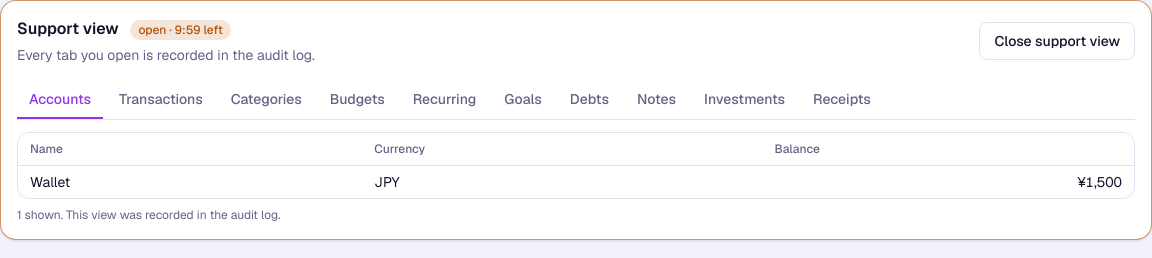
support view › while open, shows the time left and each tab's rows with amounts in the row's currency
Later steps or results of the test are not shown.
Expected: the text "open · 9:59 left" is shown, x1=130 y1=20 x2=231 y2=40
Expected: the text "Wallet" is shown, x1=18 y1=166 x2=362 y2=198
Click the tab "Notes". click: (656, 100)
box: x1=625 y1=81 x2=688 y2=119
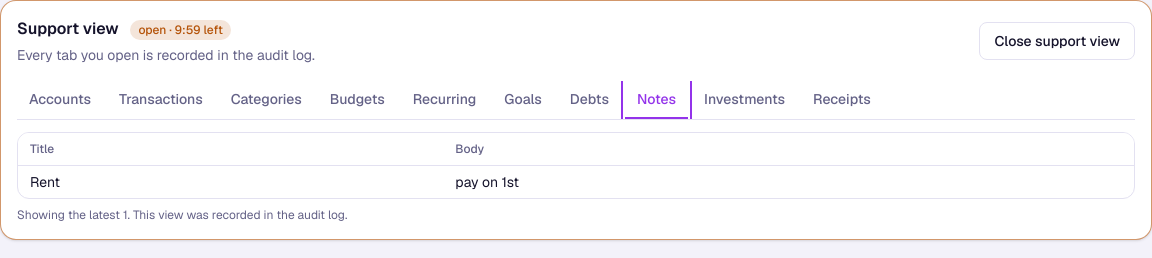
Now the text "pay on 1st" is shown, box x1=443 y1=166 x2=1134 y2=198
Now the text "Showing the latest 1" is shown, box x1=17 y1=207 x2=130 y2=223
